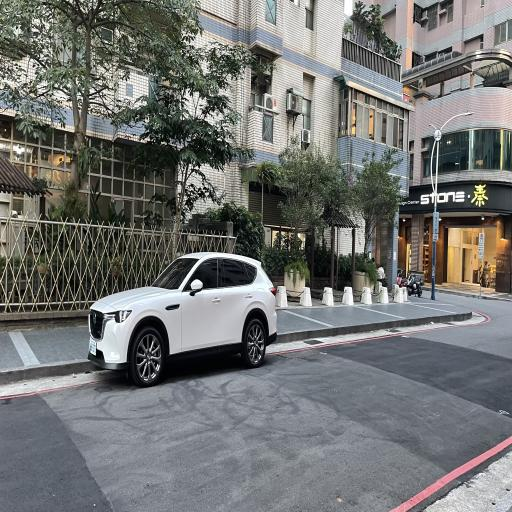MIU: (83, 332, 160, 391), (232, 314, 284, 375)
car: (77, 242, 284, 403)
redline: (260, 305, 495, 365), (387, 430, 512, 512), (0, 359, 126, 407)
